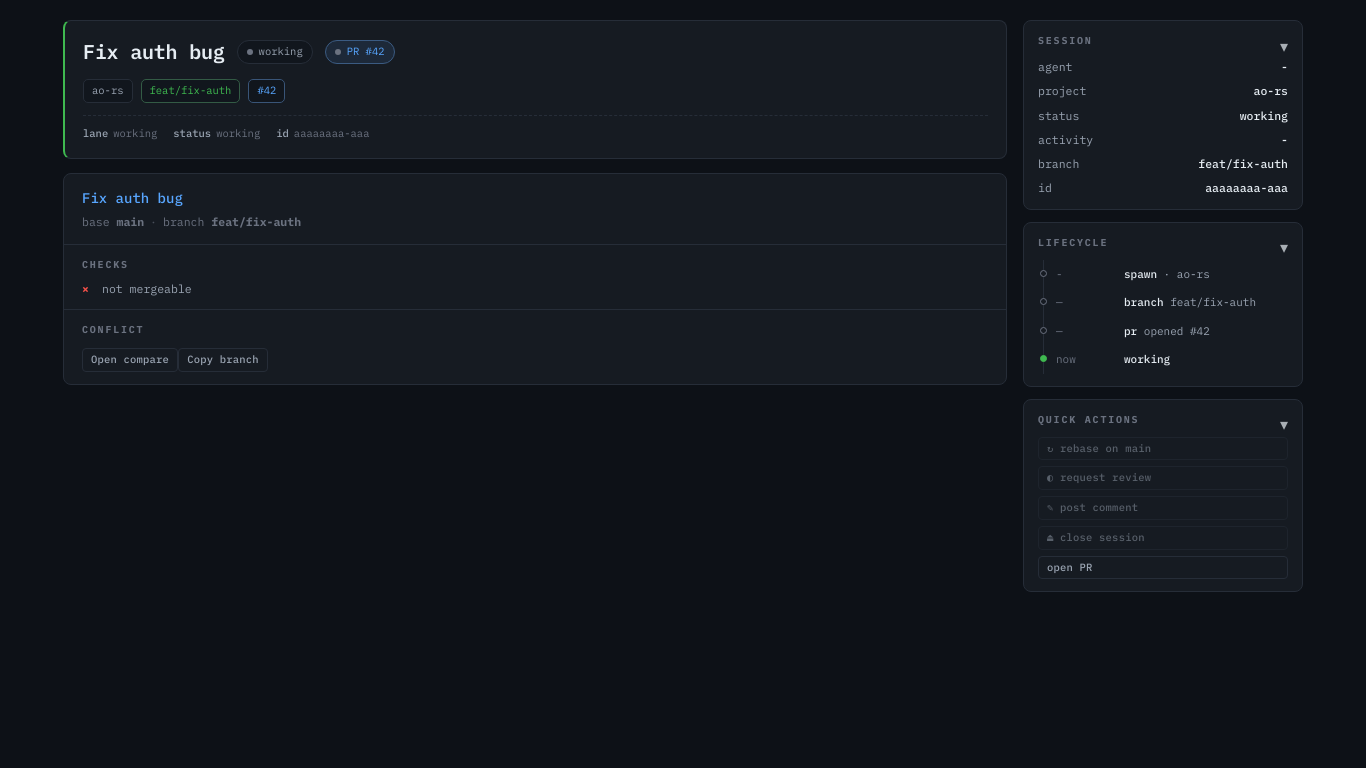
Test: SessionDetail — merge conflict actions › copy button writes branch to clipboard and shows Copied! feedback
What coordinates should you click on to do the following:
click the button "Copy branch"
I would click on:
 (223, 360)
Its box is [178,348,268,372].
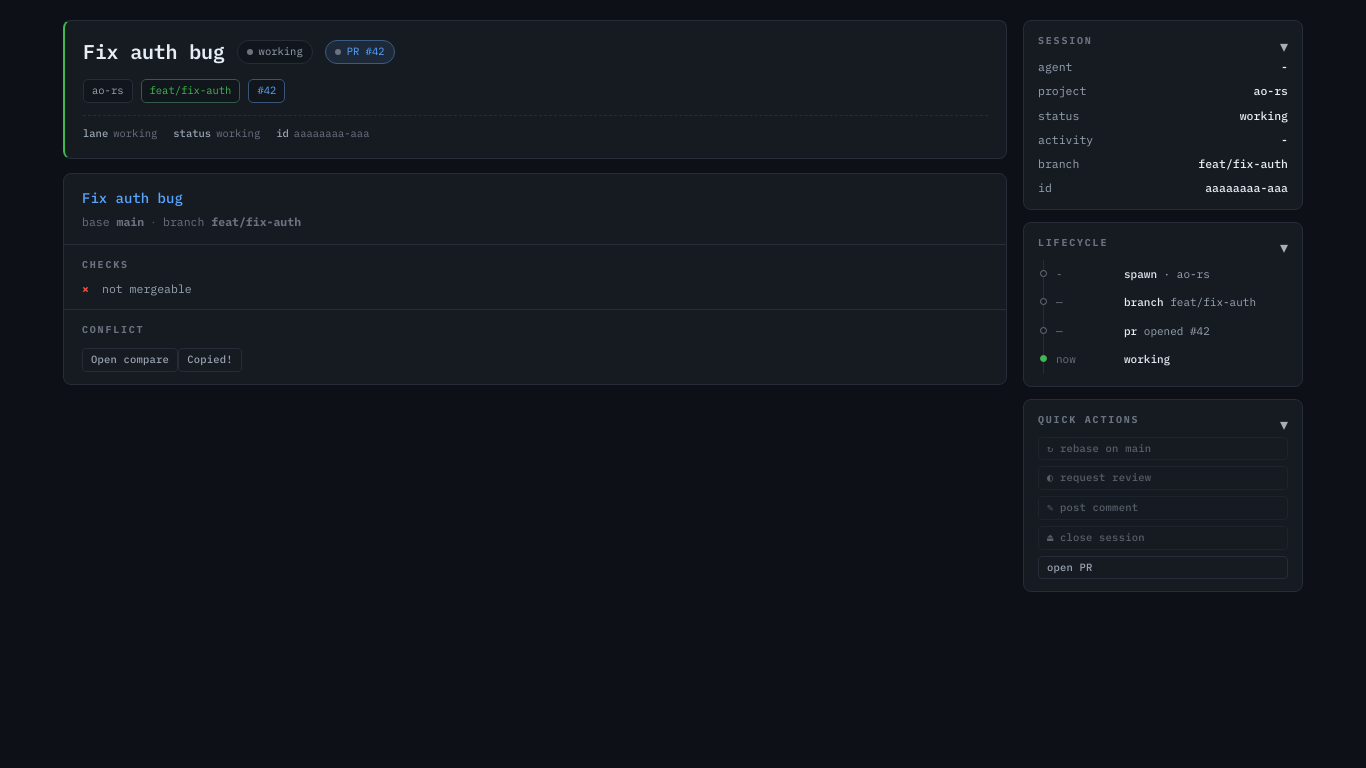
expect the button "Copied!" is shown: met, box [178,348,242,372]
